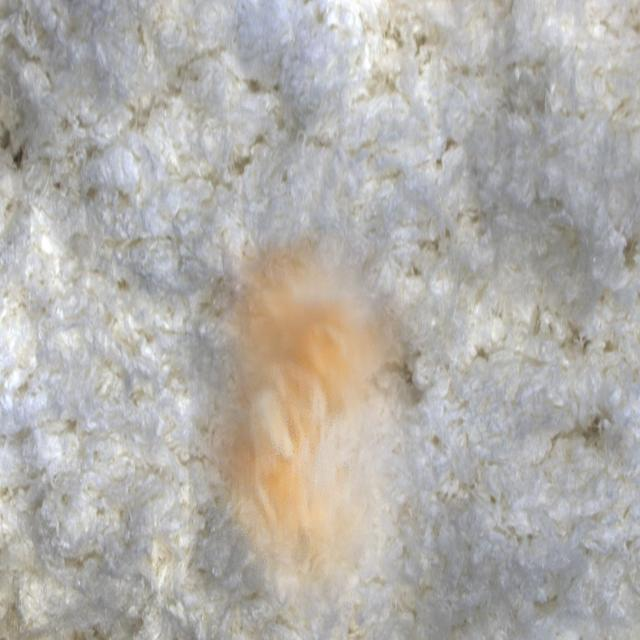dust: (188, 229, 430, 640)
